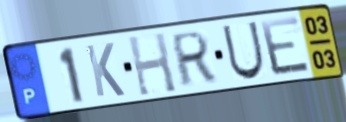1: (57, 45, 86, 106)
E: (257, 14, 314, 78)
H: (126, 30, 180, 98)
K: (83, 41, 127, 100)
R: (170, 29, 218, 90)
U: (220, 20, 267, 83)
